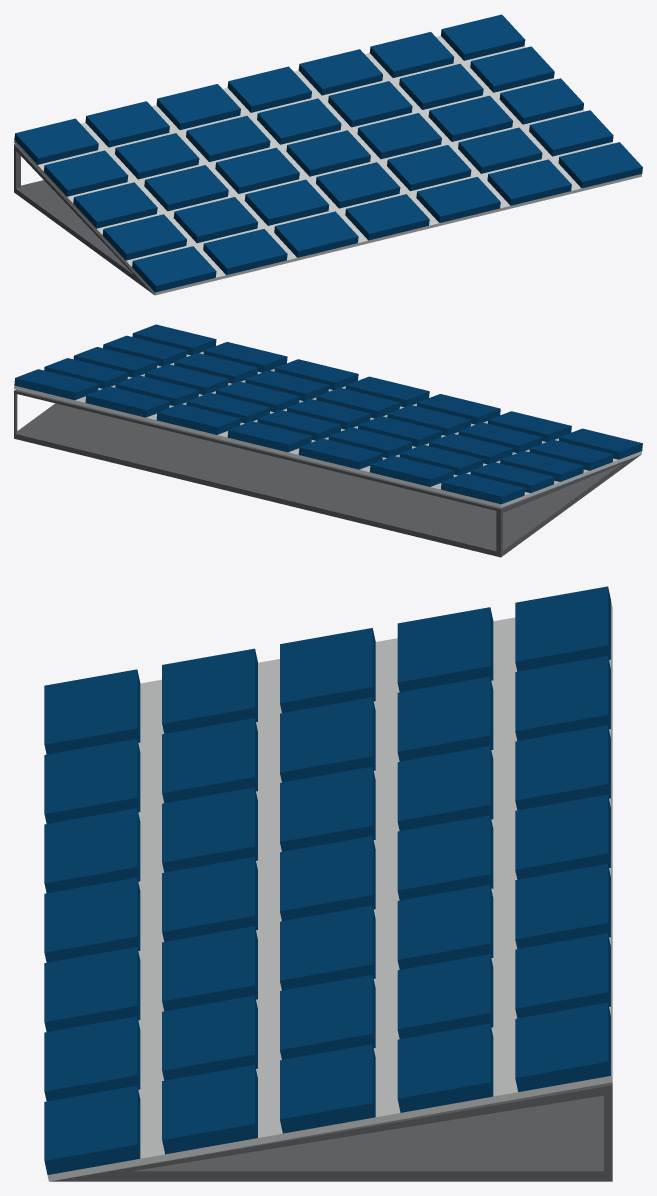
The model's file is Solar Panel 5x7 small.glb.
3 views of the same model, one above another, from view 1: azimuth 30°, elevation 25°; view 2: azimuth 150°, elevation 25°; view 3: azimuth 270°, elevation 25° (orthographic). The views are drawn at different scales.
Parts seen in each view (by area): view 1: Mesh_Mesh_head_geo.001_lambert2SG.001; view 2: Mesh_Mesh_head_geo.001_lambert2SG.001; view 3: Mesh_Mesh_head_geo.001_lambert2SG.001.
Boxes of the visible parts, <box> form: Mesh_Mesh_head_geo.001_lambert2SG.001: <box>14,14,642,295</box>; Mesh_Mesh_head_geo.001_lambert2SG.001: <box>14,324,642,557</box>; Mesh_Mesh_head_geo.001_lambert2SG.001: <box>44,586,612,1181</box>.
Bounding box in the file's own units: 212 × 24.9 × 107.
